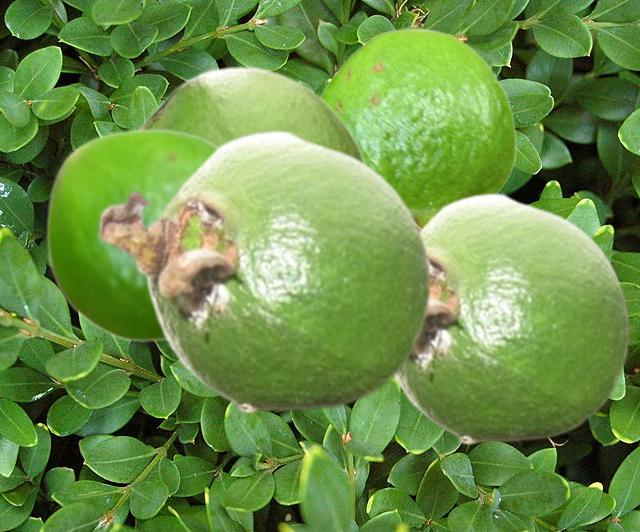guava: (96, 128, 432, 413), (394, 191, 631, 444), (321, 27, 516, 225), (45, 127, 217, 345), (138, 64, 366, 160)
